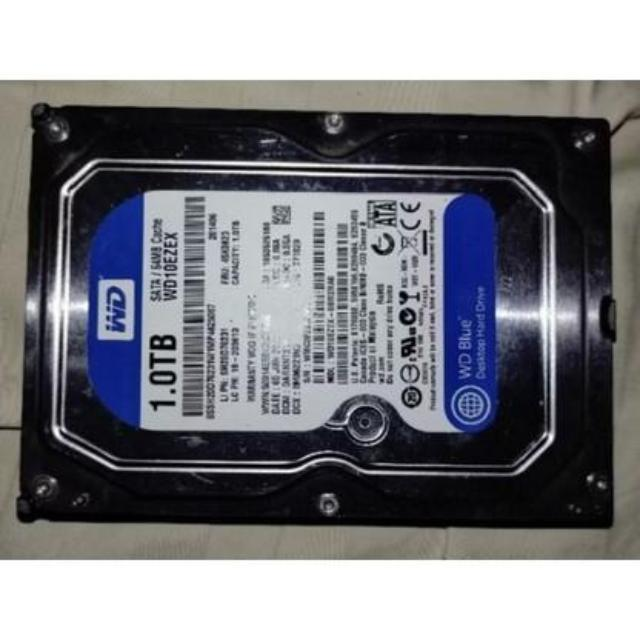DISK: (21, 99, 612, 530)
